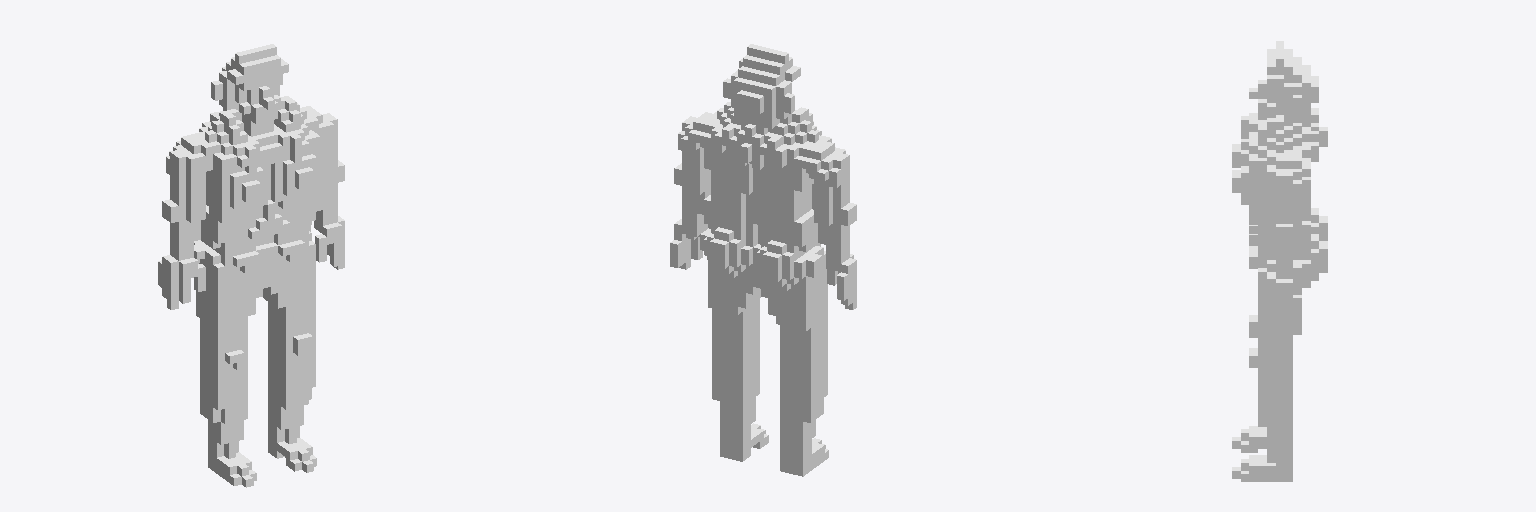
File: charlotte.obj
The picture shows the model from 3 angles: view 1: azimuth 30°, elevation 25°; view 2: azimuth 150°, elevation 25°; view 3: azimuth 270°, elevation 25°; orthographic projection.
Size of the model in its own units: 23 by 52 by 11.